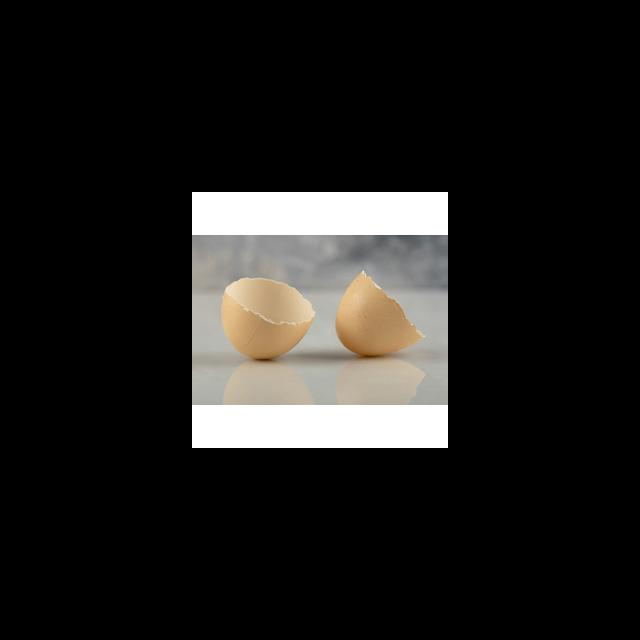food_waste: (218, 271, 325, 375), (333, 264, 421, 355)
